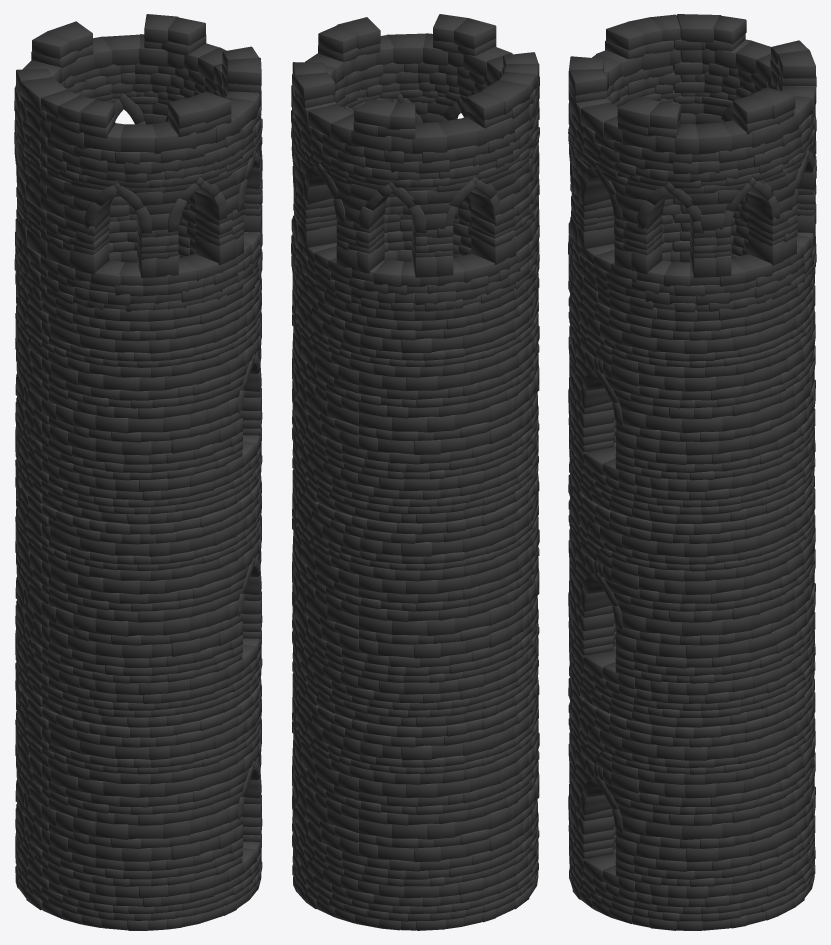
Rendered from tower1.glb.
The picture shows the model from 3 angles, left to right: view 1: azimuth 30°, elevation 25°; view 2: azimuth 150°, elevation 25°; view 3: azimuth 270°, elevation 25°; orthographic projection.
Visible parts, largest first — view 1: Wall.001, Wall.006; view 2: Wall.001, Wall.006; view 3: Wall.001, Wall.006.
Boxes of the visible parts, bbox=[...] form: Wall.001: bbox=[15, 231, 262, 930]; Wall.006: bbox=[14, 14, 262, 321]; Wall.001: bbox=[292, 231, 539, 930]; Wall.006: bbox=[291, 14, 539, 321]; Wall.001: bbox=[568, 228, 815, 930]; Wall.006: bbox=[568, 14, 816, 321].
Size of the model in its own units: 16.71 by 60.48 by 16.76.
Materials: 1 (1 with a texture image).
